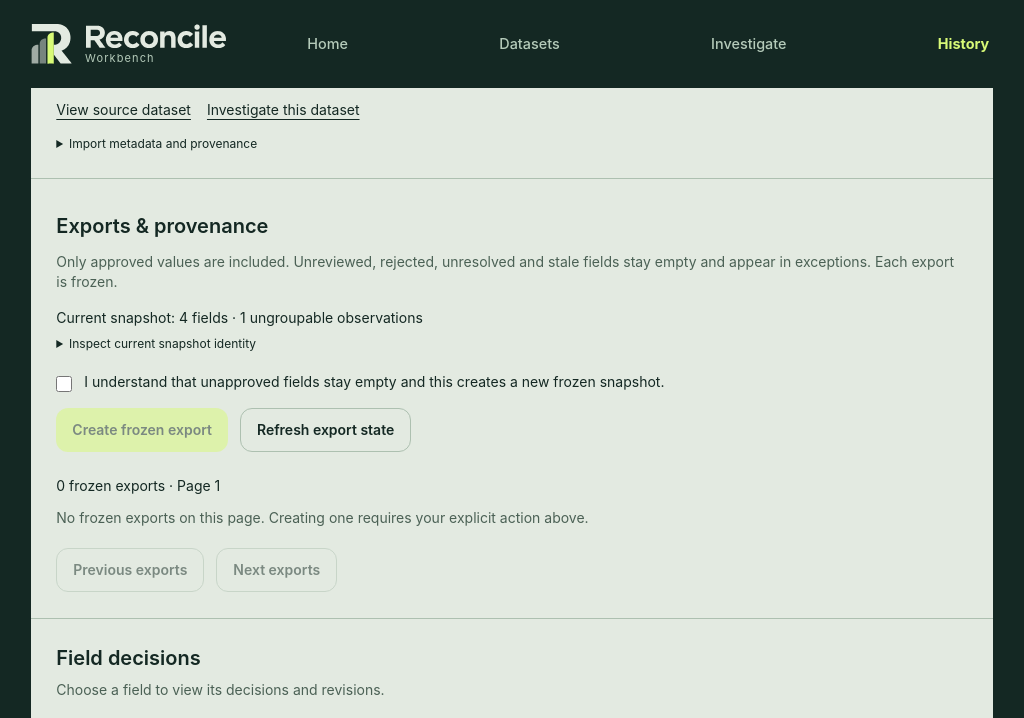
refreshes a stale snapshot without resubmitting and requires fresh acknowledgement
(page scrolled)
expect the text "Current snapshot: 4 fields · 1 ungroupable observations" is shown: met, box [56,309,423,326]
Click the checkbox labelled "I understand" at (64, 384), box [56,376,72,392]
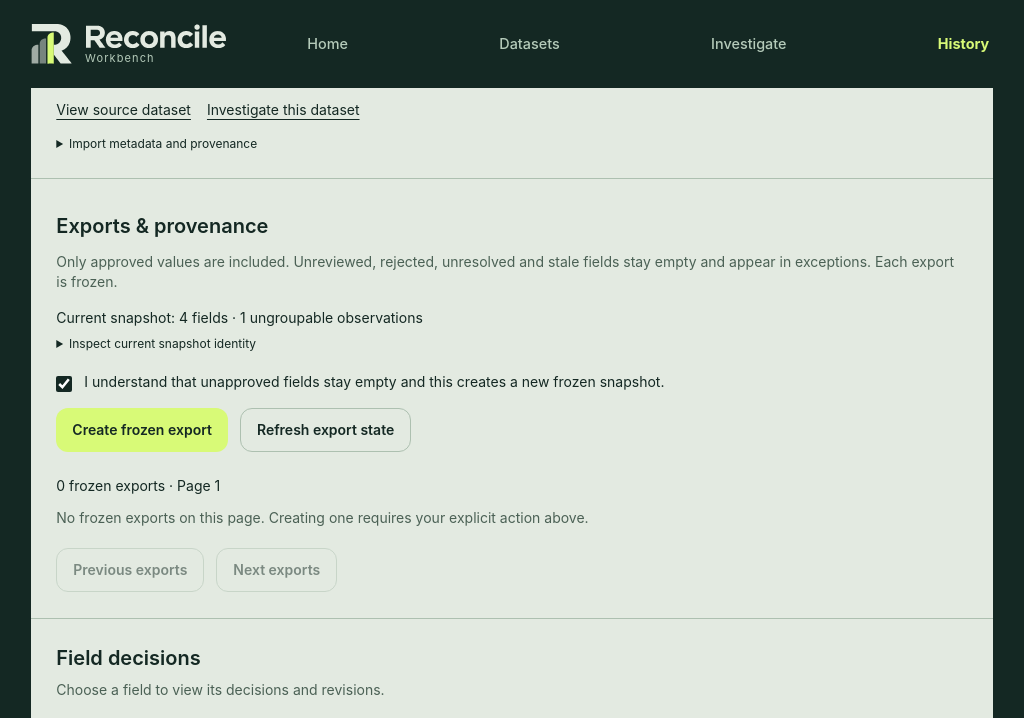
Click the button "Create frozen export" at (142, 430), box [56,408,228,452]
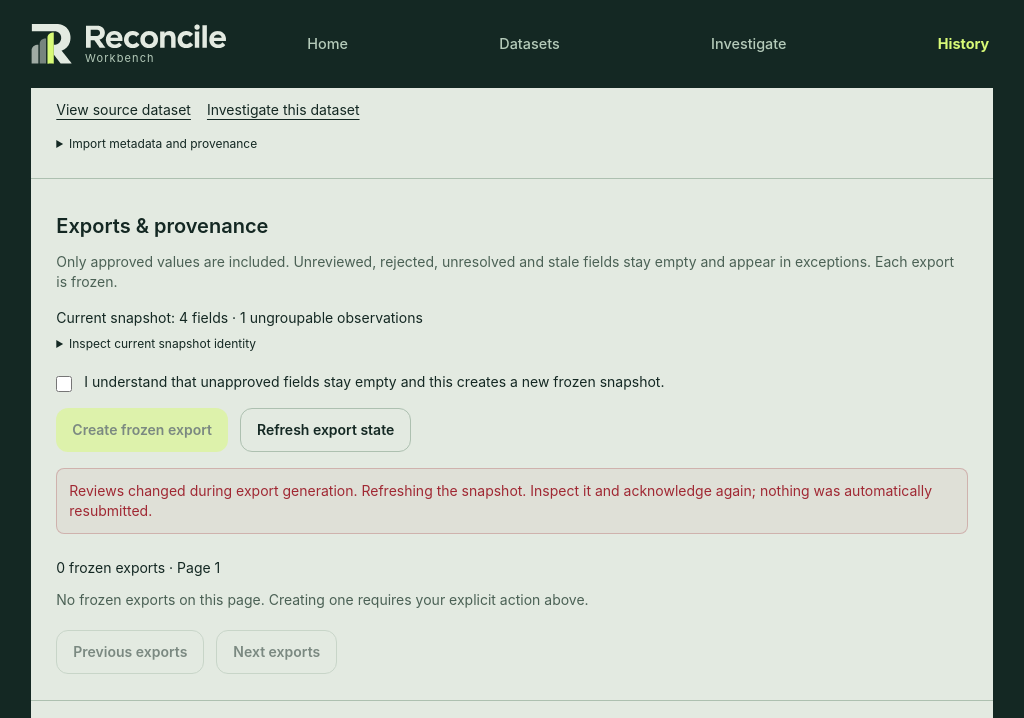
expect the checkbox is not checked: met, box [56,376,72,392]
expect the text "acknowledge again" is shown: met, box [69,482,932,519]
expect the button "Create frozen export" is disabled: met, box [56,408,228,452]
